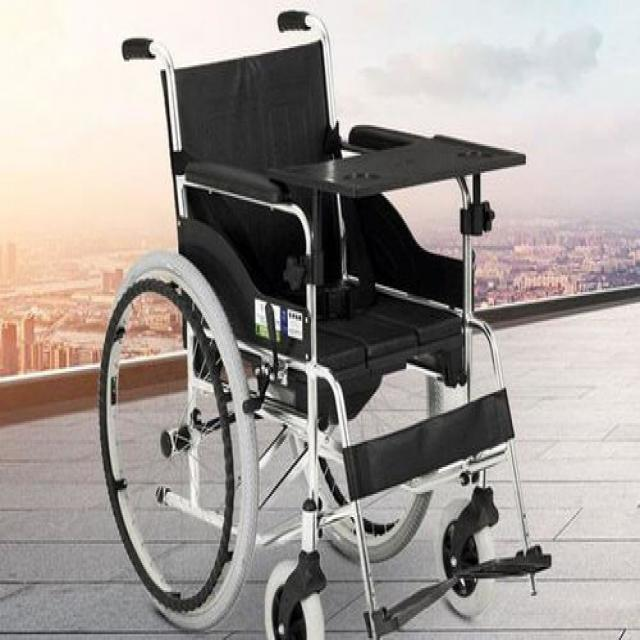wheelchairs: (98, 16, 543, 640)
